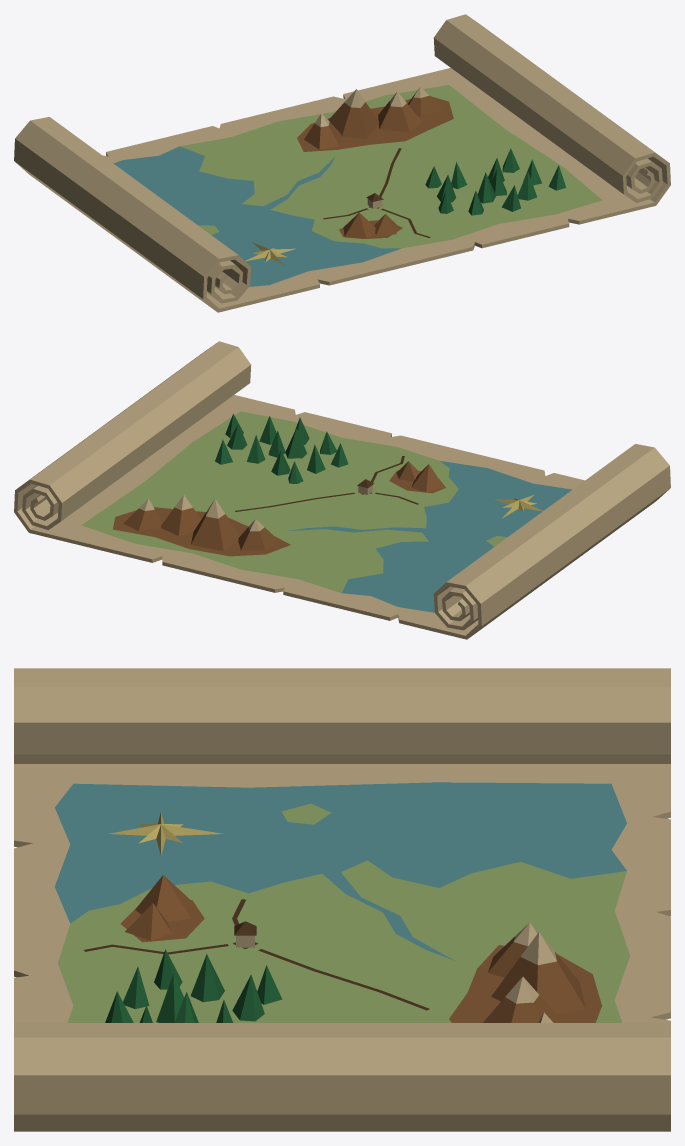
Rendered from campaign-map-scroll-d4a382.glb.
3 renders of one model, top to bottom at view 1: azimuth 30°, elevation 25°; view 2: azimuth 150°, elevation 25°; view 3: azimuth 270°, elevation 25°, orthographic. The views are drawn at different scales.
Parts seen in each view (by area): view 1: map; view 2: map; view 3: map.
Part boxes in pixels (box(x1,y1,x2,y2)): map: box(14, 14, 670, 312); map: box(14, 341, 670, 639); map: box(14, 668, 670, 1131).
Size of the model in its own units: 0.3 by 0.0328 by 0.21.
